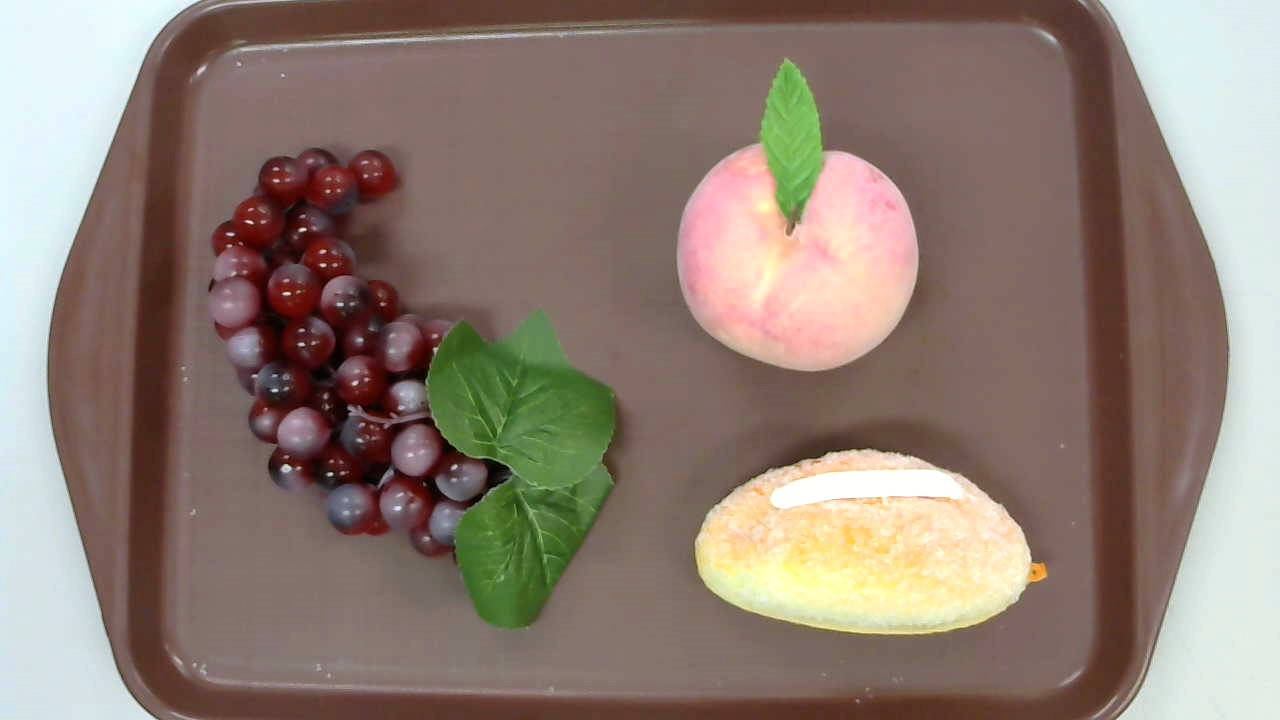coconut: (694, 448, 1047, 636)
grape: (206, 148, 621, 630)
peach: (674, 55, 918, 372)
